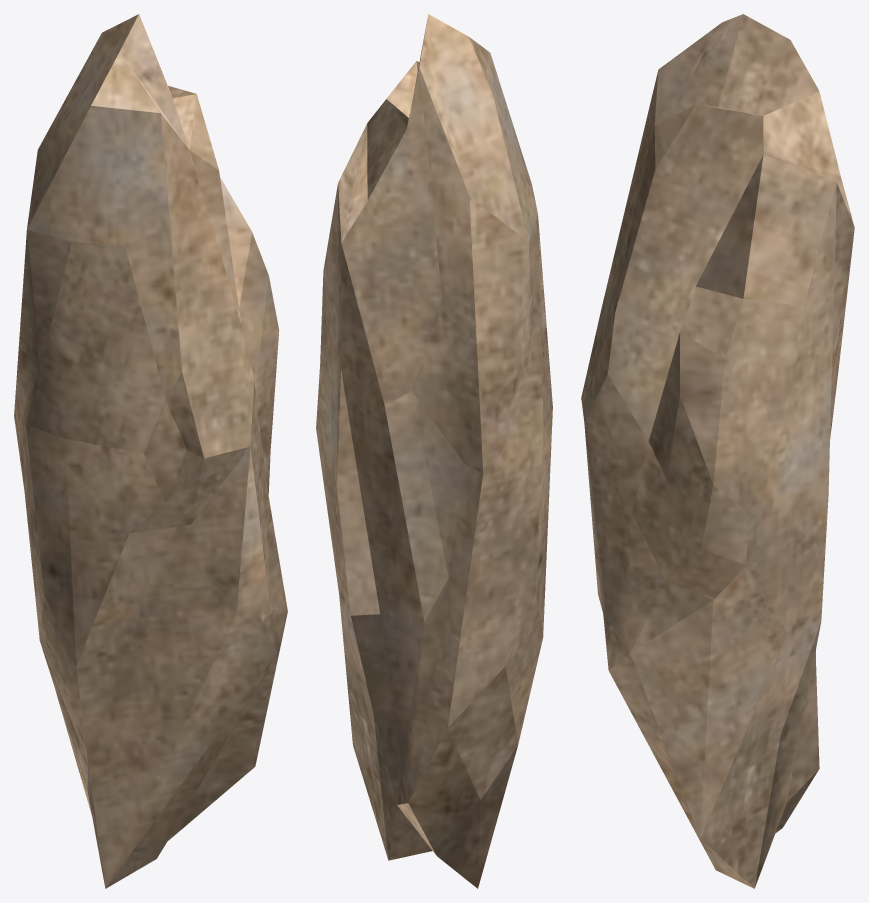
File: boulder-tall-2.glb
3 renders of one model, left to right at view 1: azimuth 30°, elevation 25°; view 2: azimuth 150°, elevation 25°; view 3: azimuth 270°, elevation 25°, orthographic. The views are drawn at different scales.
Visible parts, largest first — view 1: Dodecahedron_n3d; view 2: Dodecahedron_n3d; view 3: Dodecahedron_n3d.
Part boxes in pixels (x1=…): Dodecahedron_n3d: x1=14, y1=14, x2=287, y2=888; Dodecahedron_n3d: x1=316, y1=14, x2=552, y2=888; Dodecahedron_n3d: x1=581, y1=14, x2=854, y2=888.
Bounding box in the file's own units: 1.01 × 3.56 × 1.
1 material, 1 textured.
